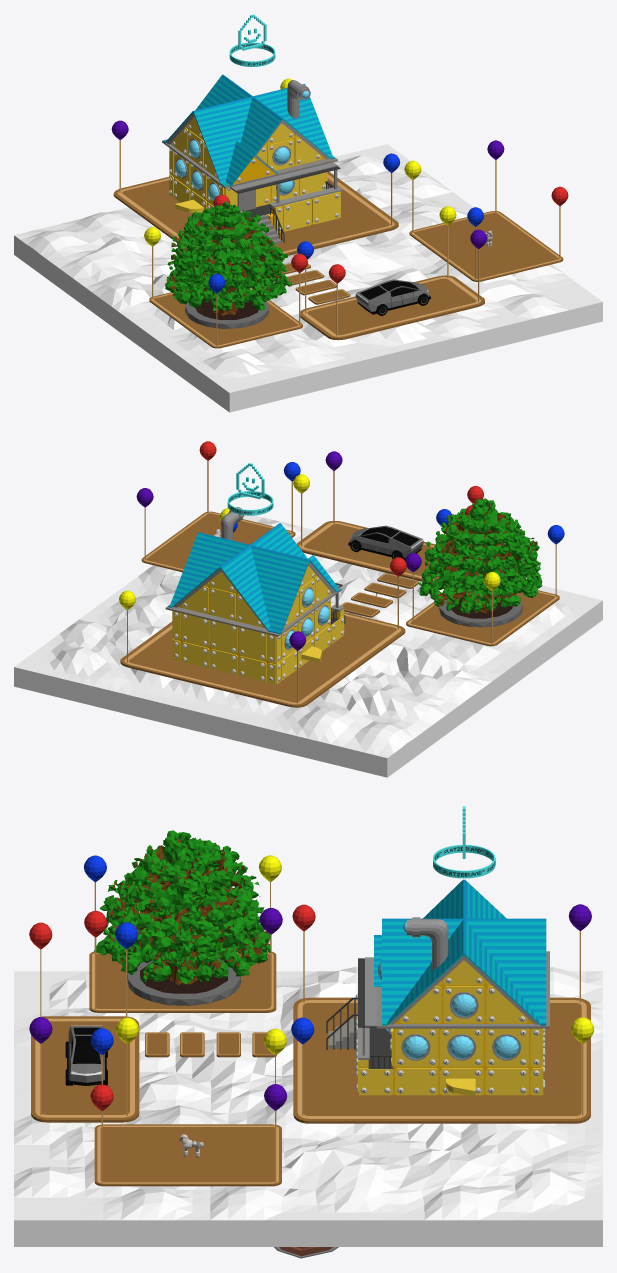
The picture shows the model from 3 angles, top to bottom: view 1: azimuth 30°, elevation 25°; view 2: azimuth 150°, elevation 25°; view 3: azimuth 270°, elevation 25°; orthographic projection. The views are drawn at different scales.
Visible parts, largest first — view 1: Cube.013, Cube.1366, OBJRANDOM_CEIBA, VEHICLES_CYBERTRUCK, TYPE_PREMIUM; view 2: Cube.013, Cube.1366, OBJRANDOM_CEIBA, VEHICLES_CYBERTRUCK, TYPE_PREMIUM; view 3: Cube.013, Cube.1366, OBJRANDOM_CEIBA, VEHICLES_CYBERTRUCK, TYPE_PREMIUM.
Boxes of the visible parts, x1,y1,x2,y2 form: Cube.013: (14,78,602,412); Cube.1366: (162,74,342,244); OBJRANDOM_CEIBA: (165,201,291,328); VEHICLES_CYBERTRUCK: (355,279,430,315); TYPE_PREMIUM: (229,14,275,66); Cube.013: (14,441,602,777); Cube.1366: (165,507,345,684); OBJRANDOM_CEIBA: (418,498,542,627); VEHICLES_CYBERTRUCK: (348,525,423,560); TYPE_PREMIUM: (227,463,273,515); Cube.013: (14,855,602,1246); Cube.1366: (326,879,549,1096); OBJRANDOM_CEIBA: (94,830,270,1005); VEHICLES_CYBERTRUCK: (65,1025,107,1085); TYPE_PREMIUM: (433,806,495,878).
Size of the model in its own units: 4000 by 3159 by 4000.
Materials: 37 (2 with a texture image).
